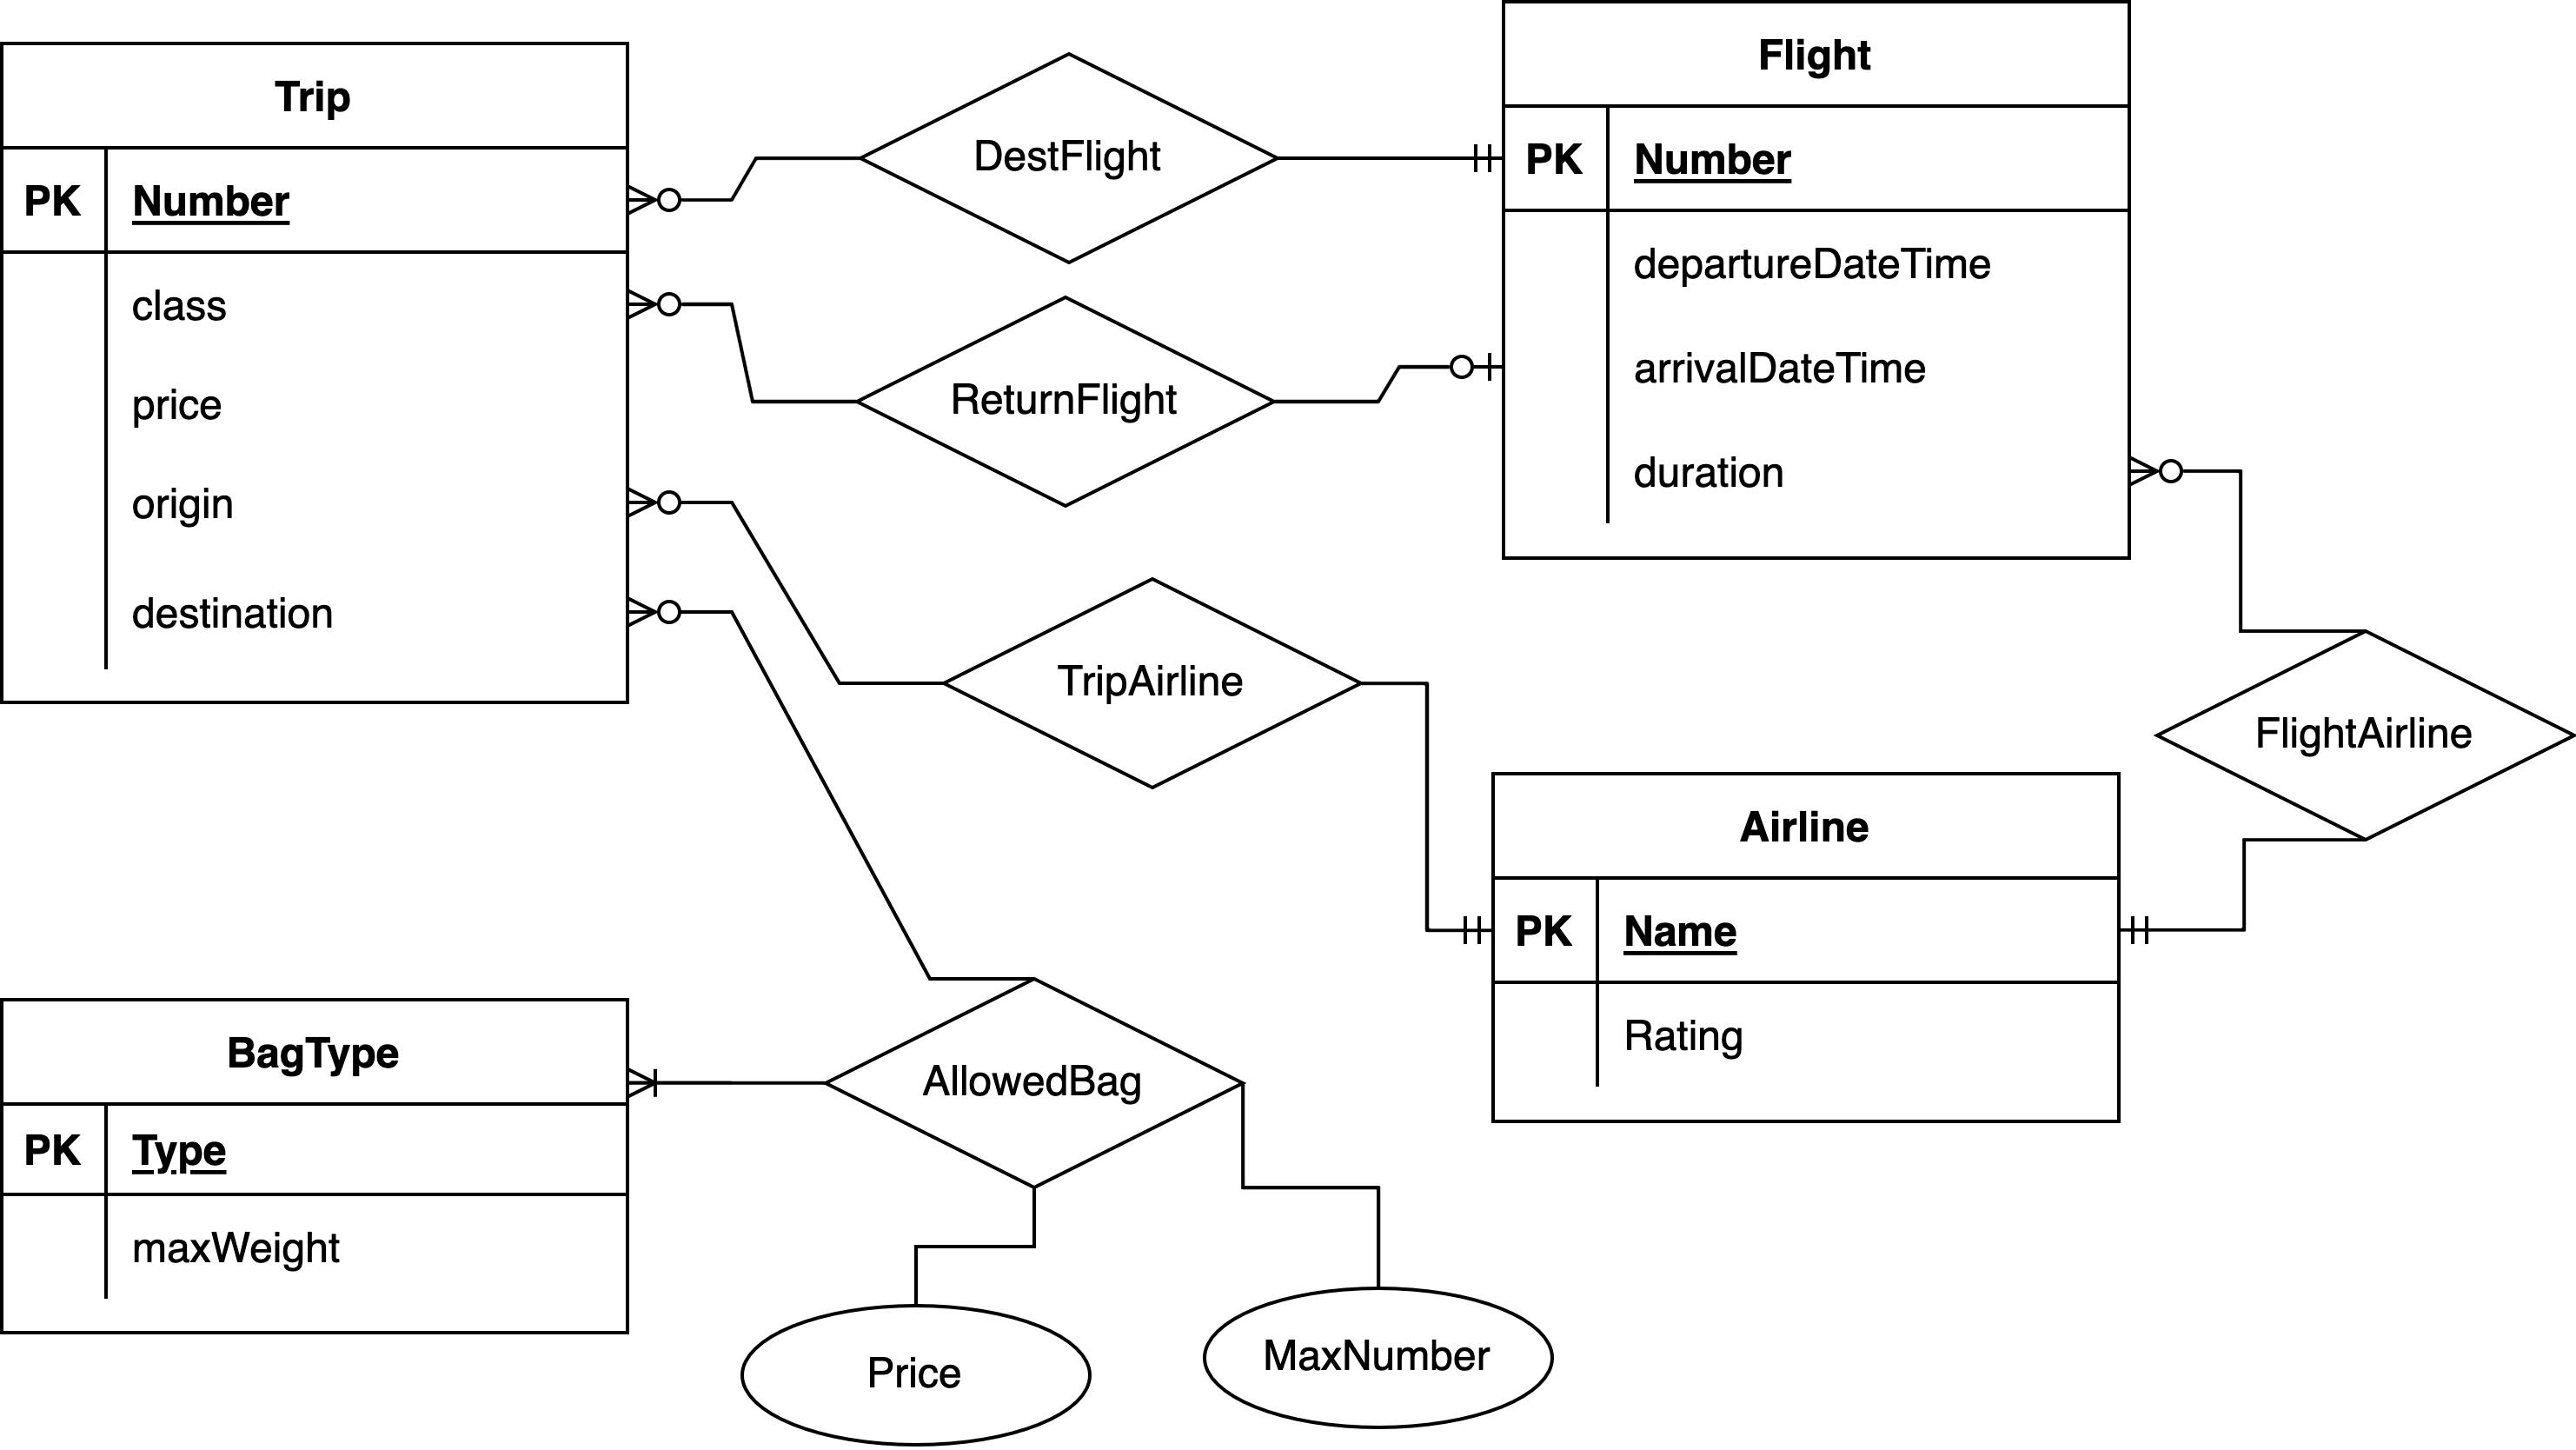attribute: (738, 1303, 1092, 1450), (1203, 1289, 1555, 1425)
entity: (0, 39, 633, 708), (1500, 0, 2137, 568), (1491, 770, 2123, 1126), (0, 995, 633, 1335)
relationship: (945, 582, 1362, 793), (858, 299, 1274, 508), (2157, 632, 2576, 837), (862, 55, 1276, 260), (832, 979, 1240, 1183)
